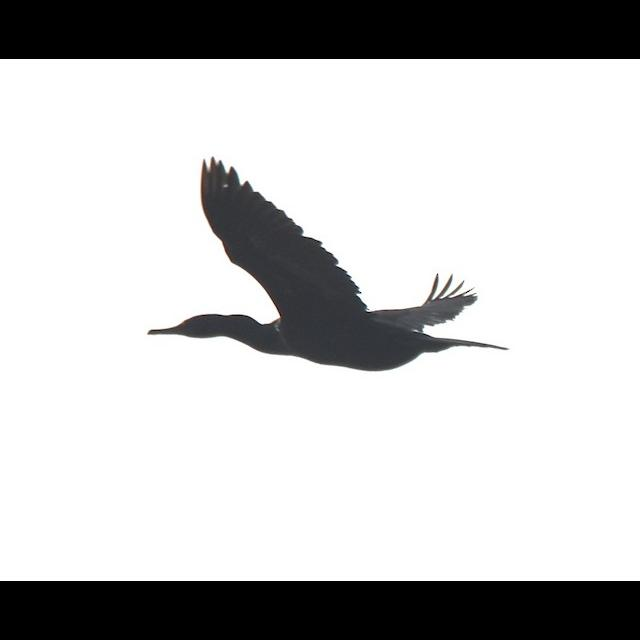cormorant: (141, 150, 533, 376)
